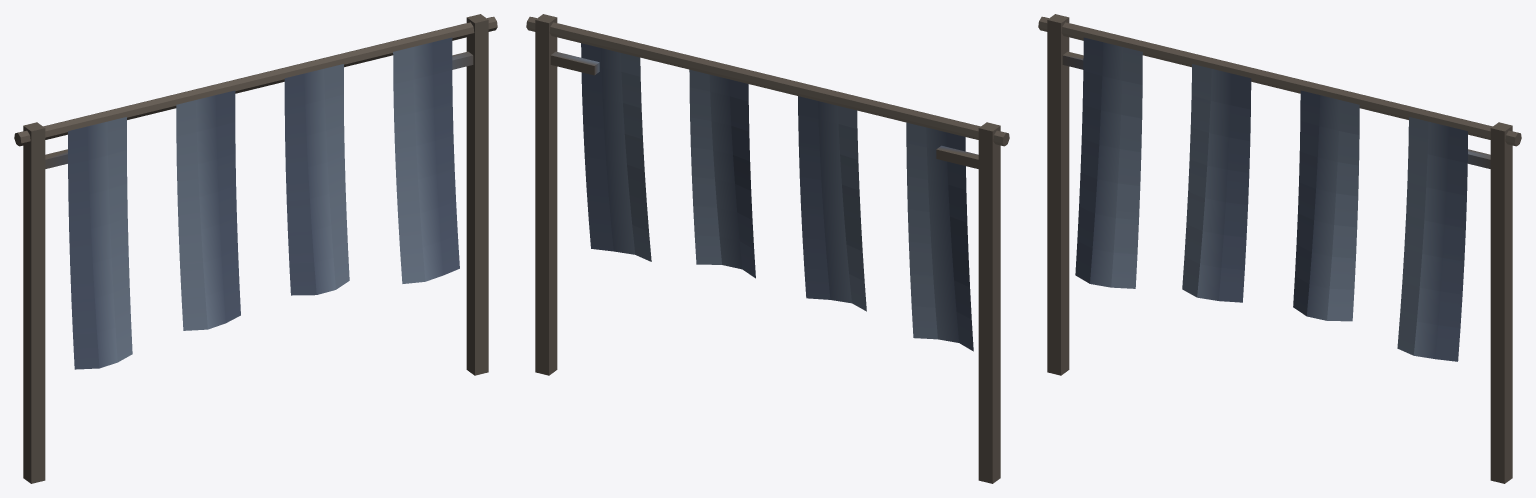
File: prop_monohoshi.glb
The picture shows the model from 3 angles, left to right: view 1: azimuth 30°, elevation 25°; view 2: azimuth 150°, elevation 25°; view 3: azimuth 330°, elevation 25°; orthographic projection.
Parts seen in each view (by area): view 1: prop_monohoshi; view 2: prop_monohoshi; view 3: prop_monohoshi.
Boxes of the visible parts, x1,y1,x2,y2 form: prop_monohoshi: [14, 14, 497, 483]; prop_monohoshi: [526, 14, 1009, 483]; prop_monohoshi: [1038, 14, 1521, 483].
Bounding box in the file's own units: 2.9 × 2.05 × 0.2424.
